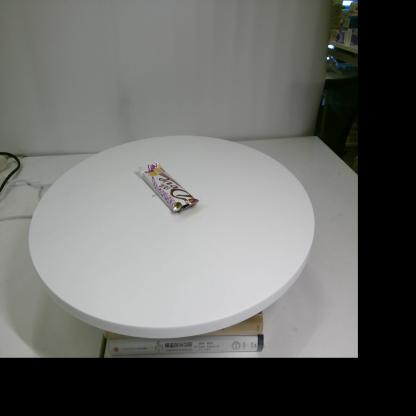Chocolate: (138, 162, 202, 213)
